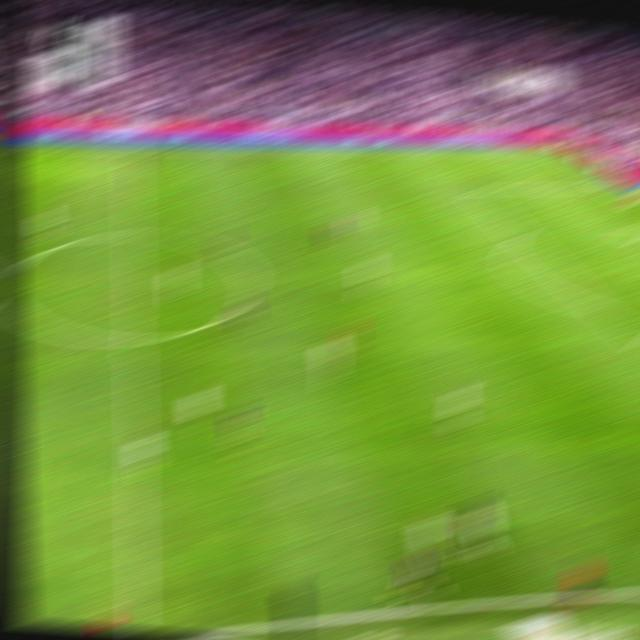bigarea_top_inner: (461, 185, 482, 194)
bigarea_top_outter: (600, 181, 620, 190)
bottom_arc_area_intersection: (588, 300, 609, 314)
corner: (543, 145, 564, 152)
halfcircle_bottom: (122, 327, 148, 351)
halfcircle_top: (120, 224, 146, 245)
midline_top_intersection: (122, 144, 142, 153)
smallarea_top_inner: (611, 222, 631, 230)
top_arc_area_intersection: (511, 230, 531, 239)
